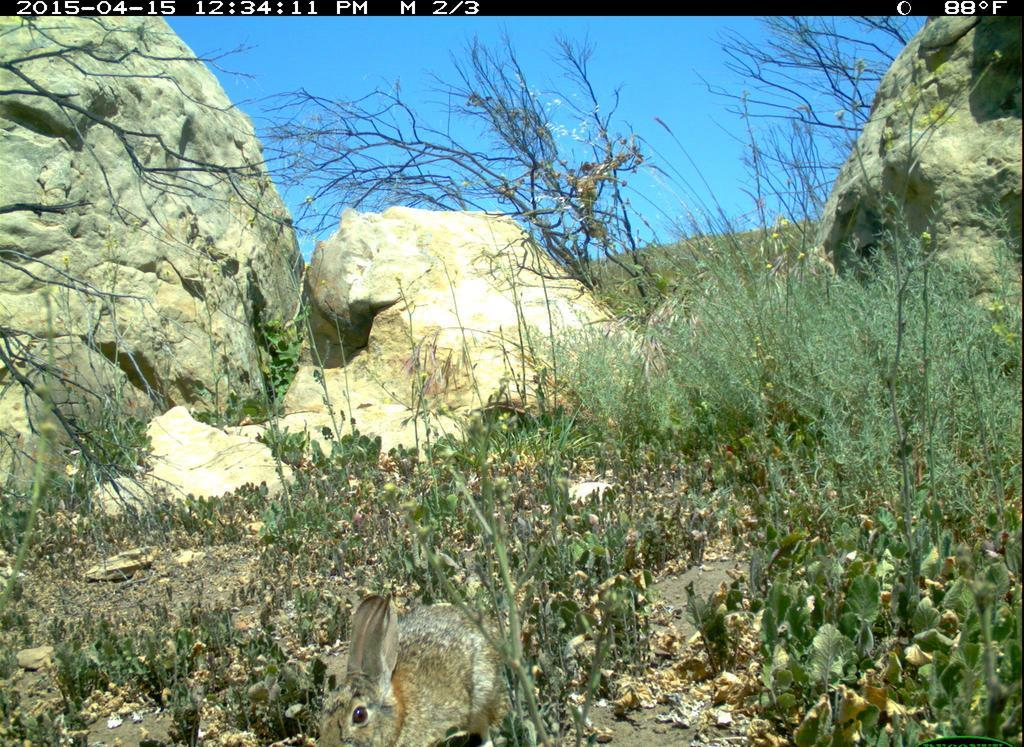rabbit: (301, 580, 510, 745)
